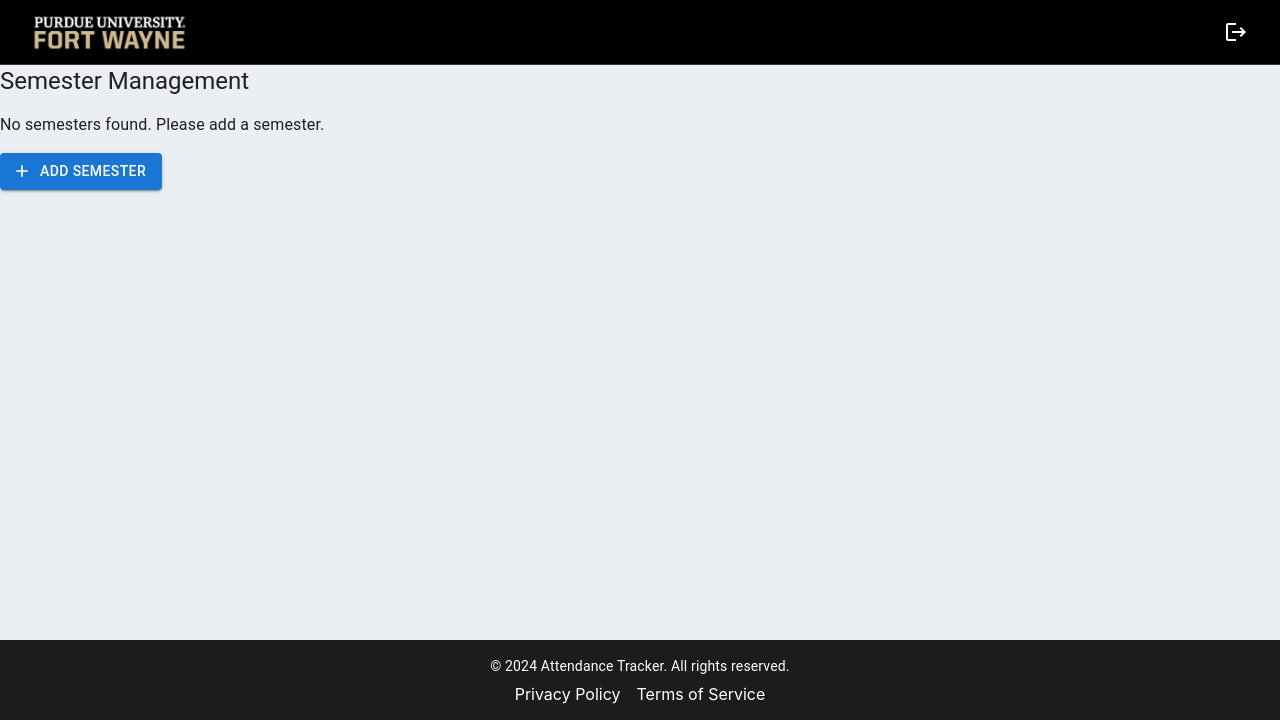
Semester Management › should show a validation error if the end date is before the start date
The width and height of the screenshot is (1280, 720).
Click the button "Add Semester" at (81, 172), box 0,153 -> 162,190
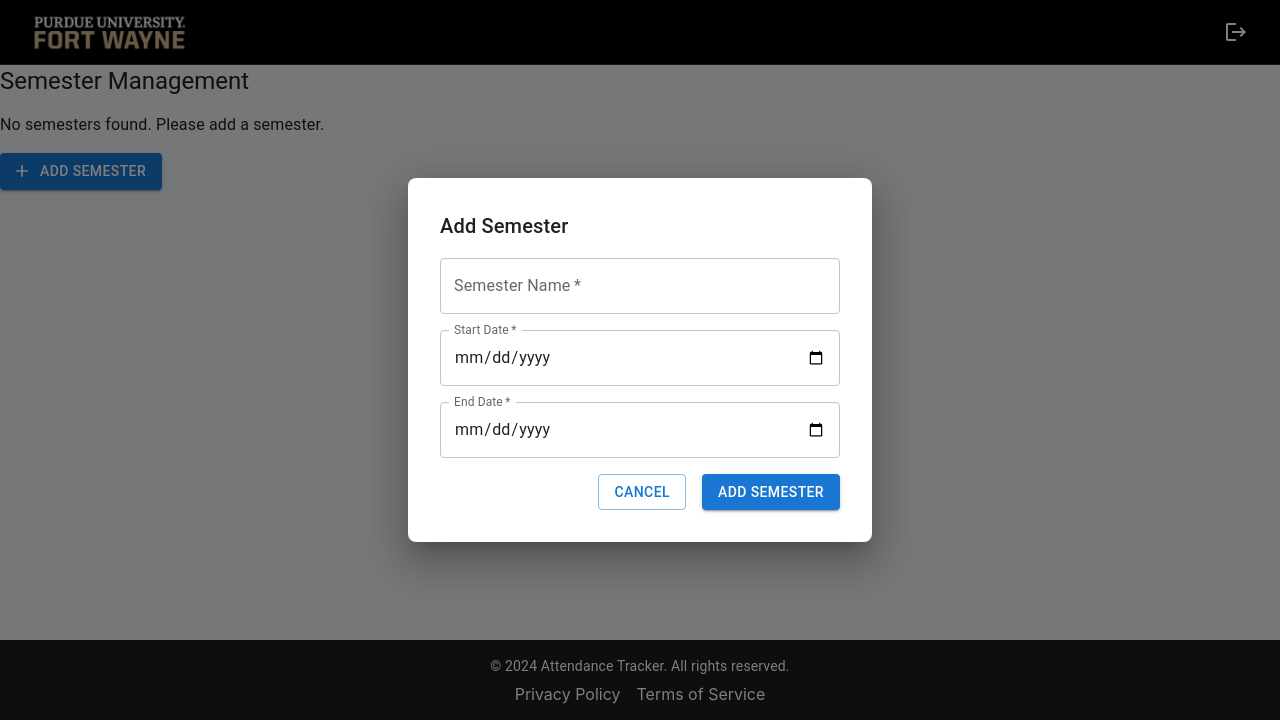
Type "Invalid Semester" into the element with test id "semester-name" at (640, 286), box 440,258 -> 840,314
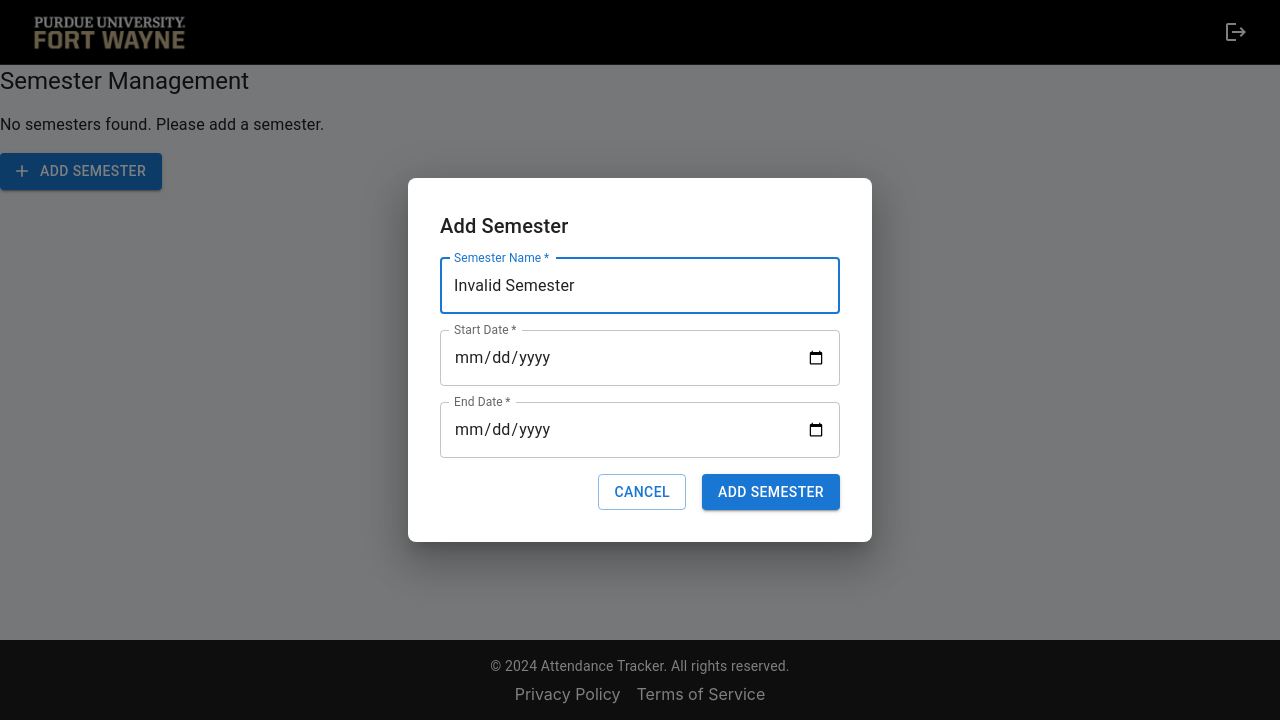
Type "2025-05-15" into the element with test id "start-date" at (640, 358), box 440,330 -> 840,386
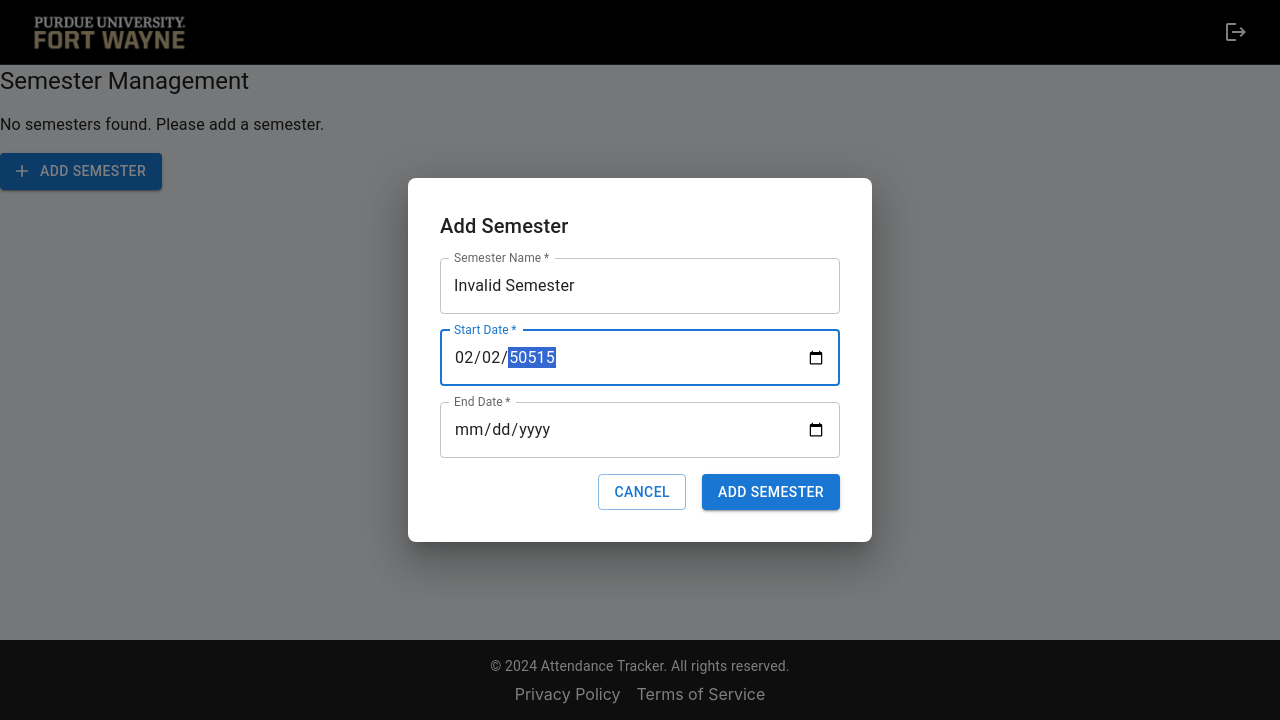
Type "2025-01-15" into the element with test id "end-date" at (640, 430), box 440,402 -> 840,458
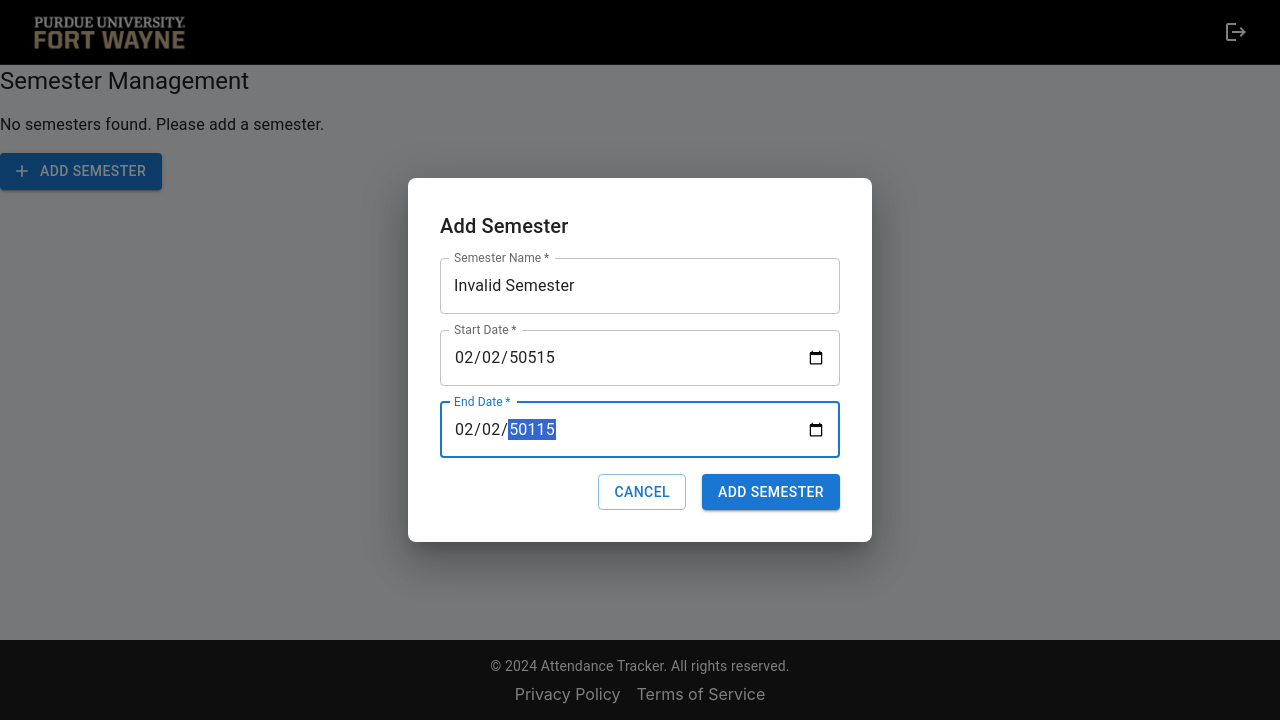
Click the button with test id "semester-submit" at (771, 493), box 702,474 -> 840,511
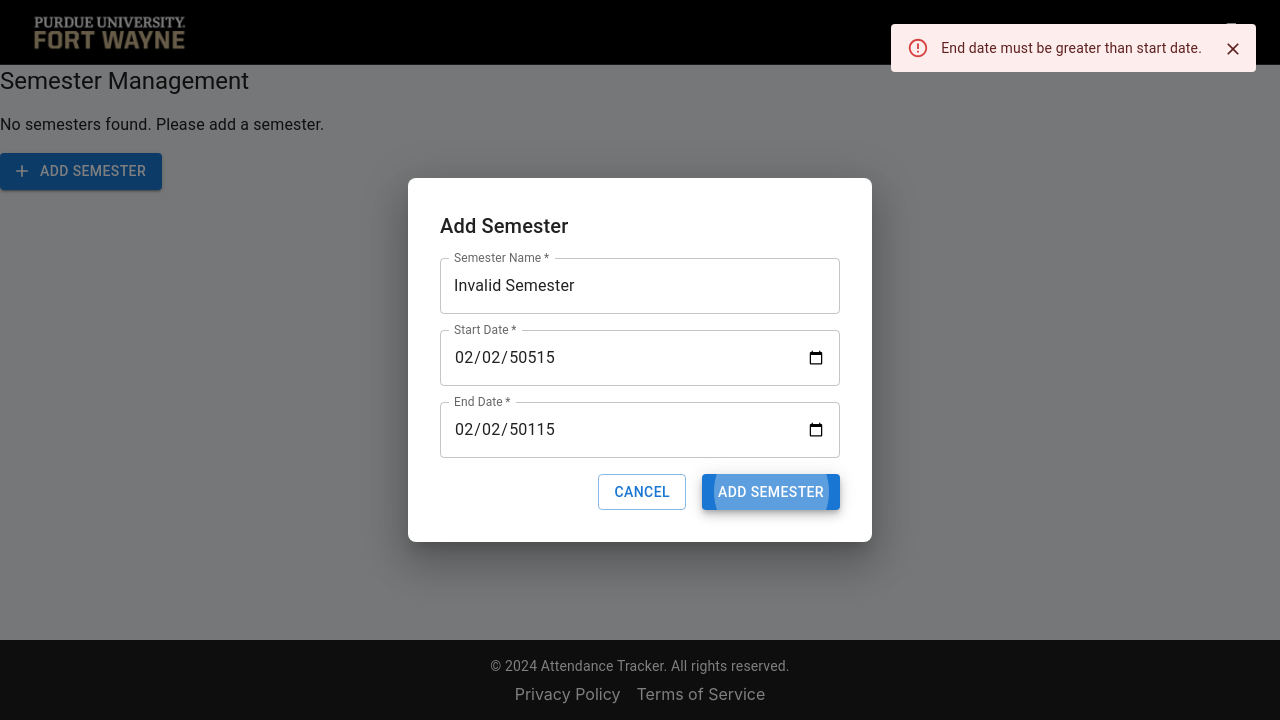
Check: the text "End date must be greater than start date." is shown, box 941,40 -> 1202,56
